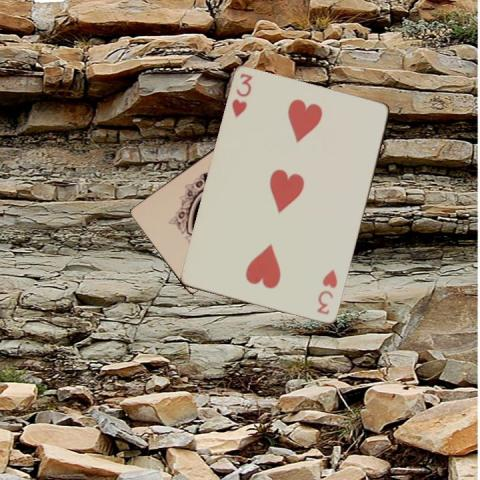3h: (314, 266, 339, 316), (229, 71, 254, 119)
